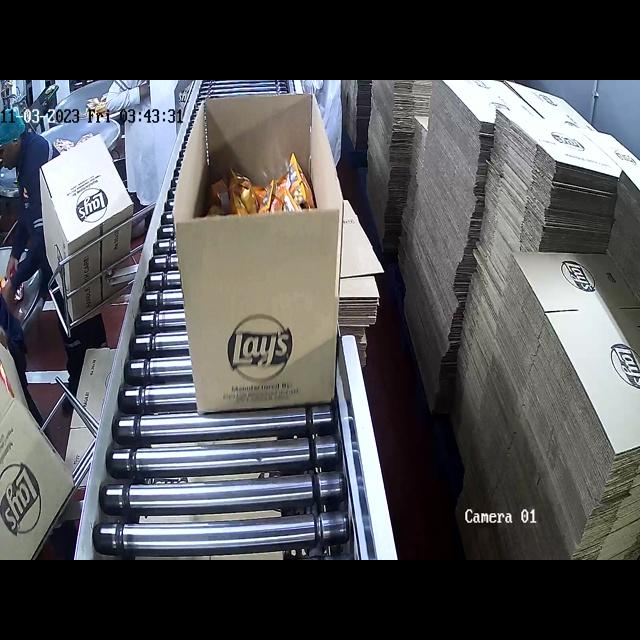cheese: (209, 152, 319, 209)
